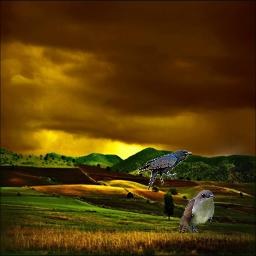Crow: (136, 150, 192, 191)
Cuckoo: (179, 190, 216, 233)
